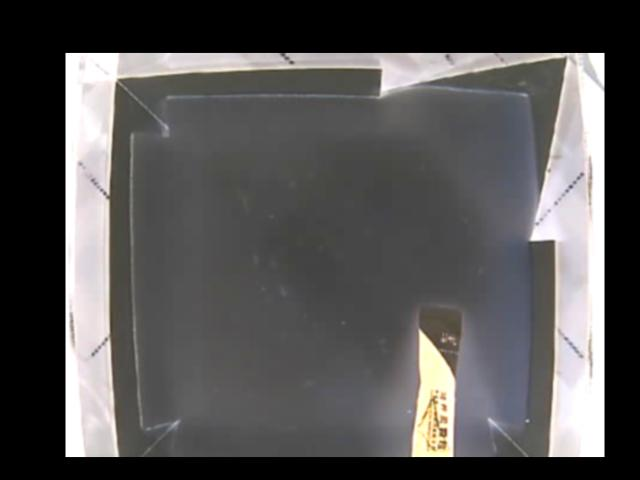Medicine: (411, 307, 463, 455)
